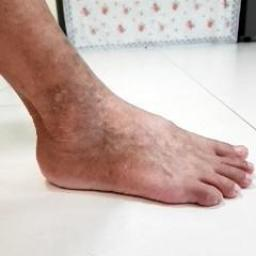Lateral View -Right Foot-: (6, 52, 255, 230)
